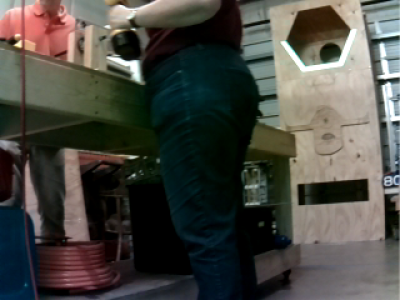target: (281, 29, 358, 72)
